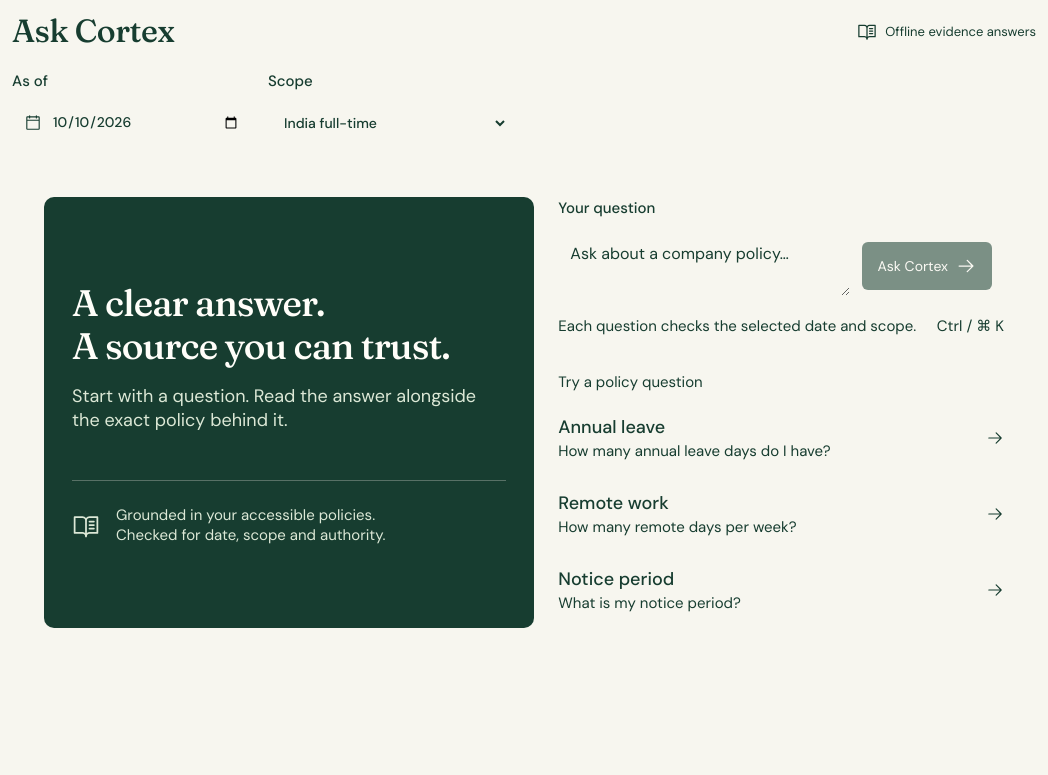
Test case: conflict comparison reads every source and renders authorized exact spans
Click the text "How many annual leave days do I have?" at [694, 451], box [558,441,831,461]
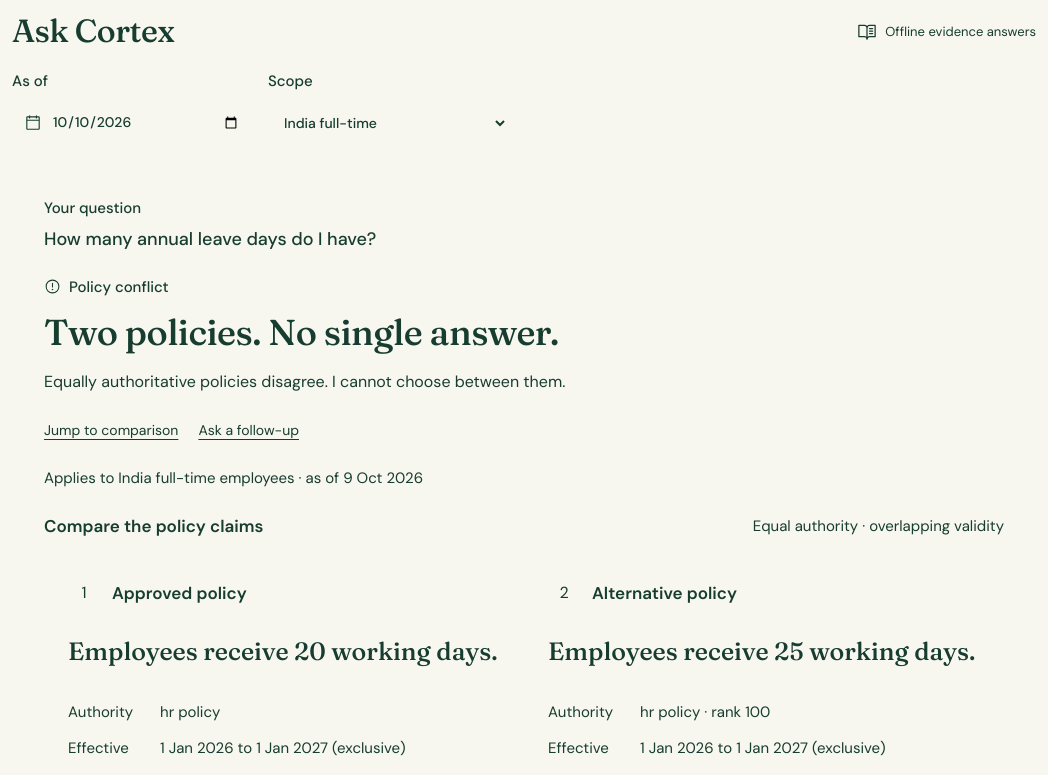
Expected: the text "Employees receive 25 working days." is shown, [548,633,980,670]
Expected: the text "Employees receive 20 working days." is shown, [68,633,500,670]
Expected: the text "Equally authoritative policies disagree. I cannot choose between them." is shown, [44,371,565,392]
